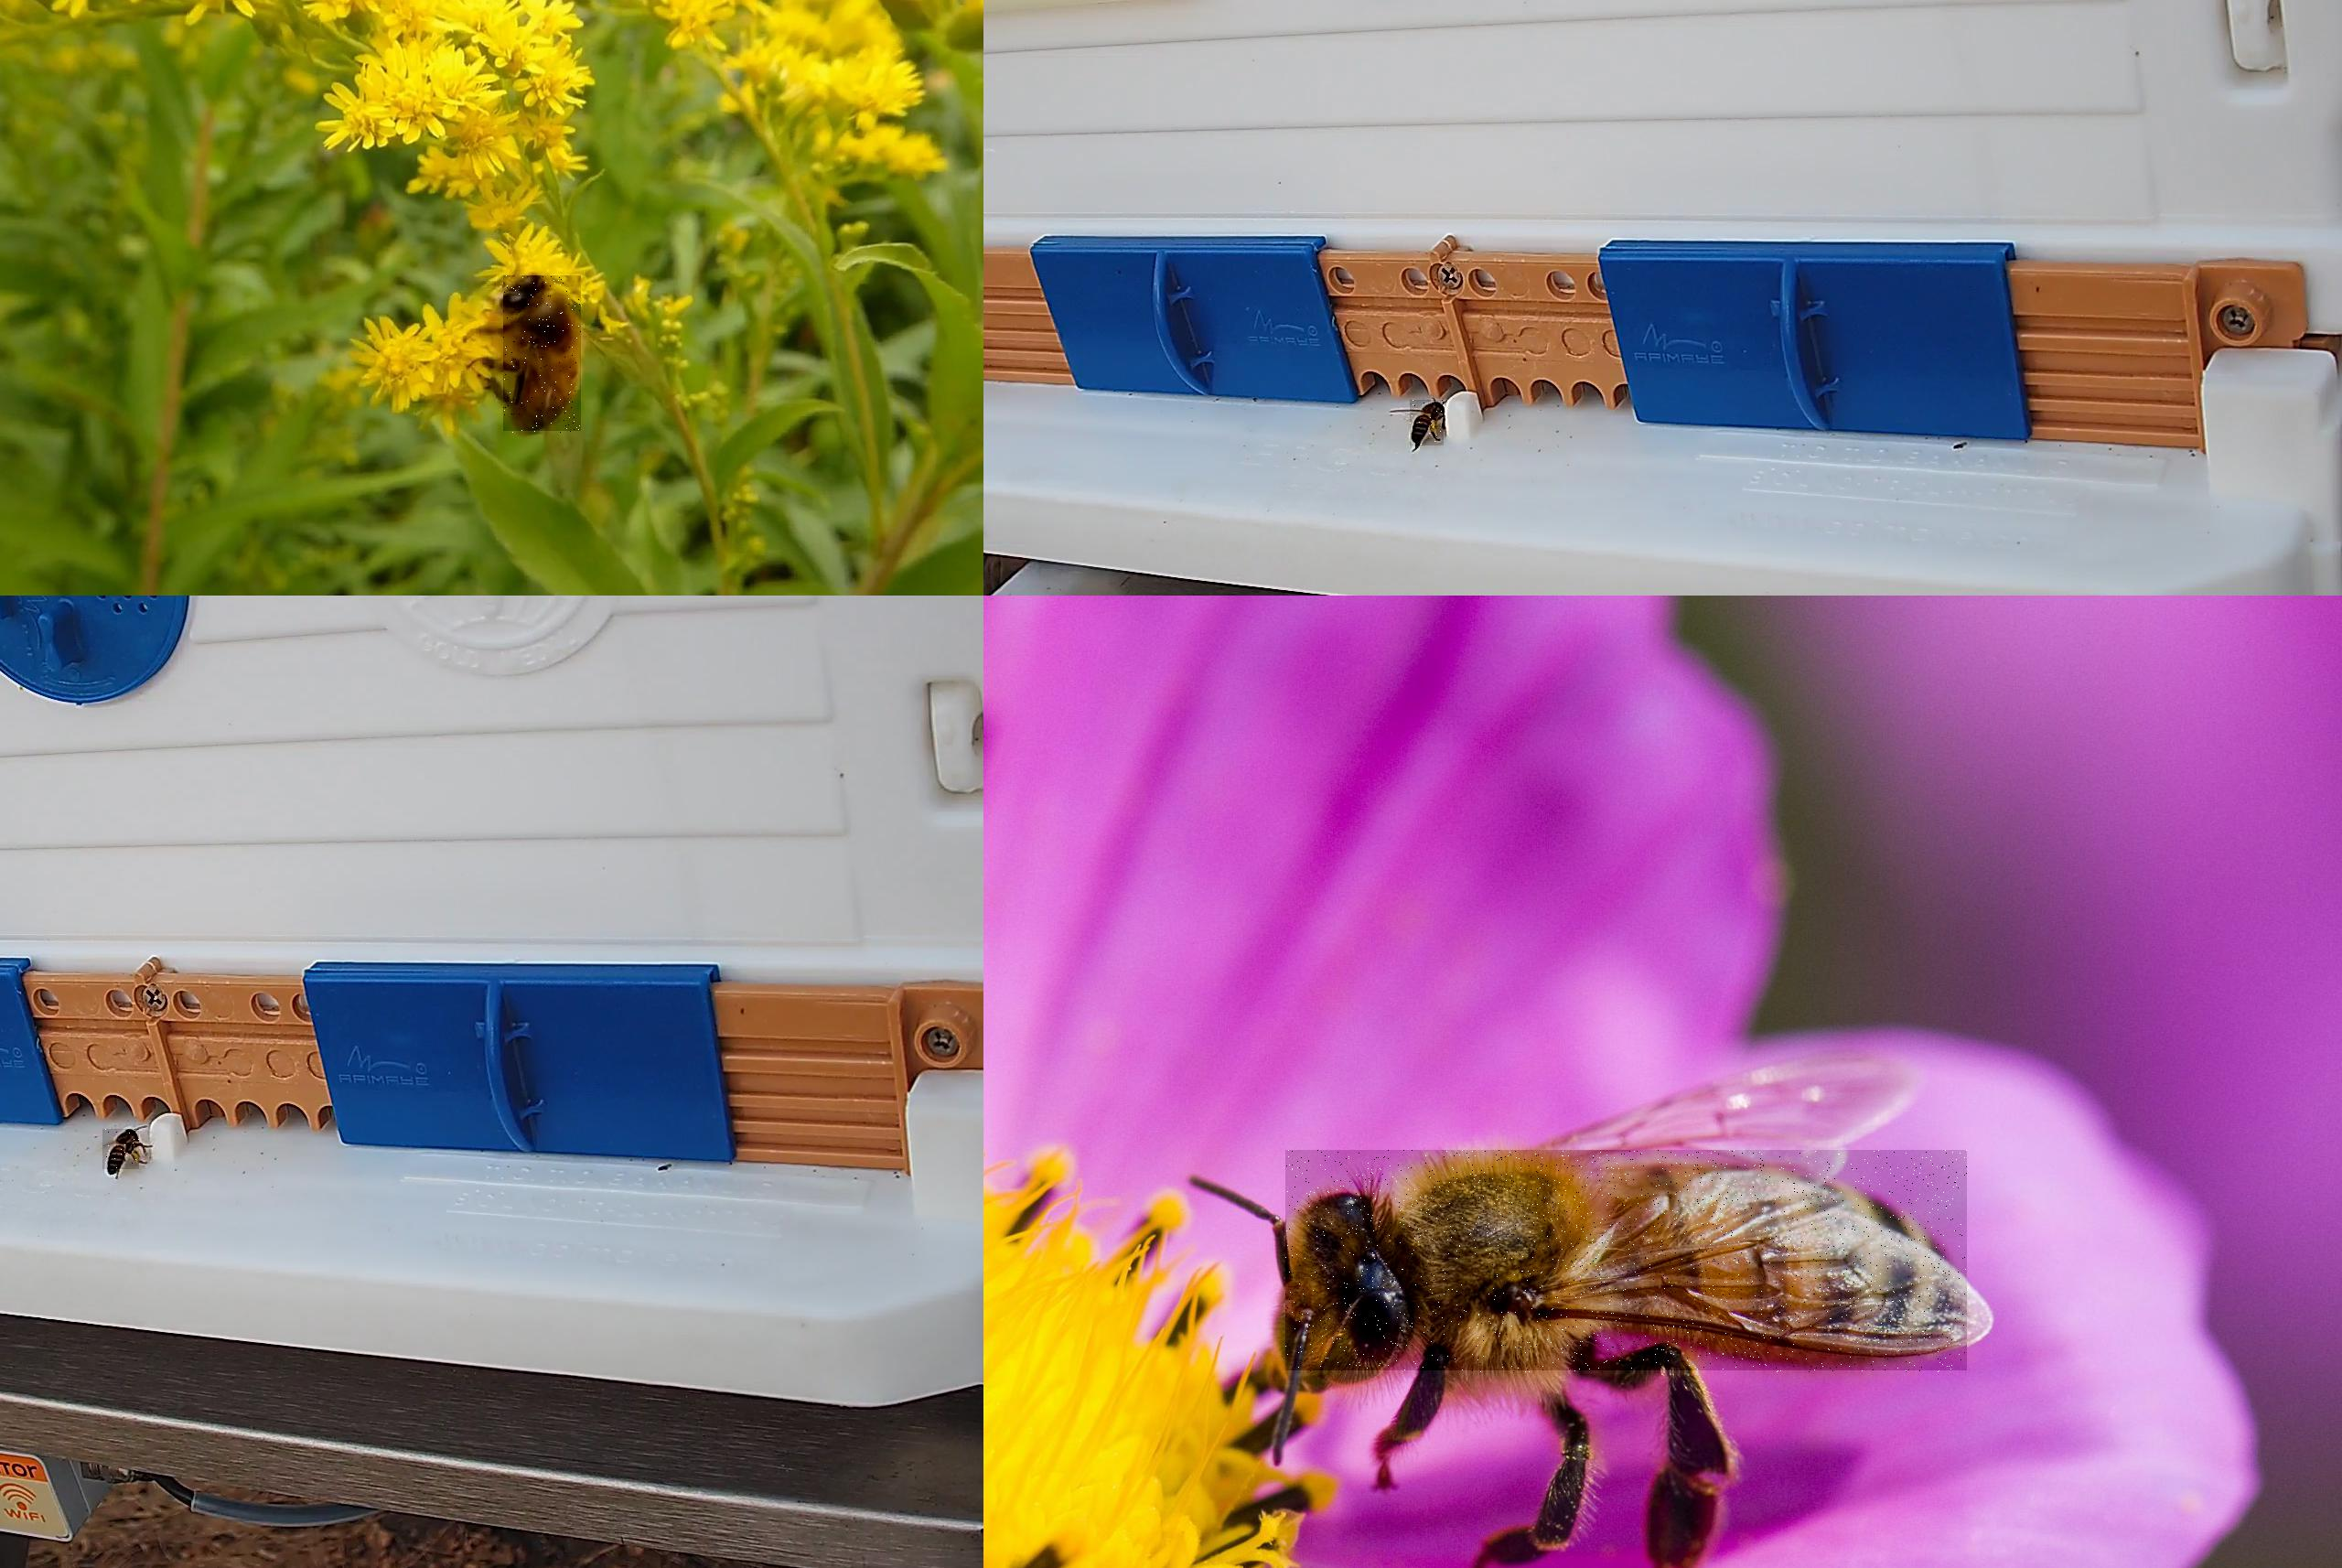bee: (1285, 1151, 1967, 1374), (502, 276, 581, 434)
pollenbee: (1409, 399, 1444, 446), (103, 1129, 140, 1171)
